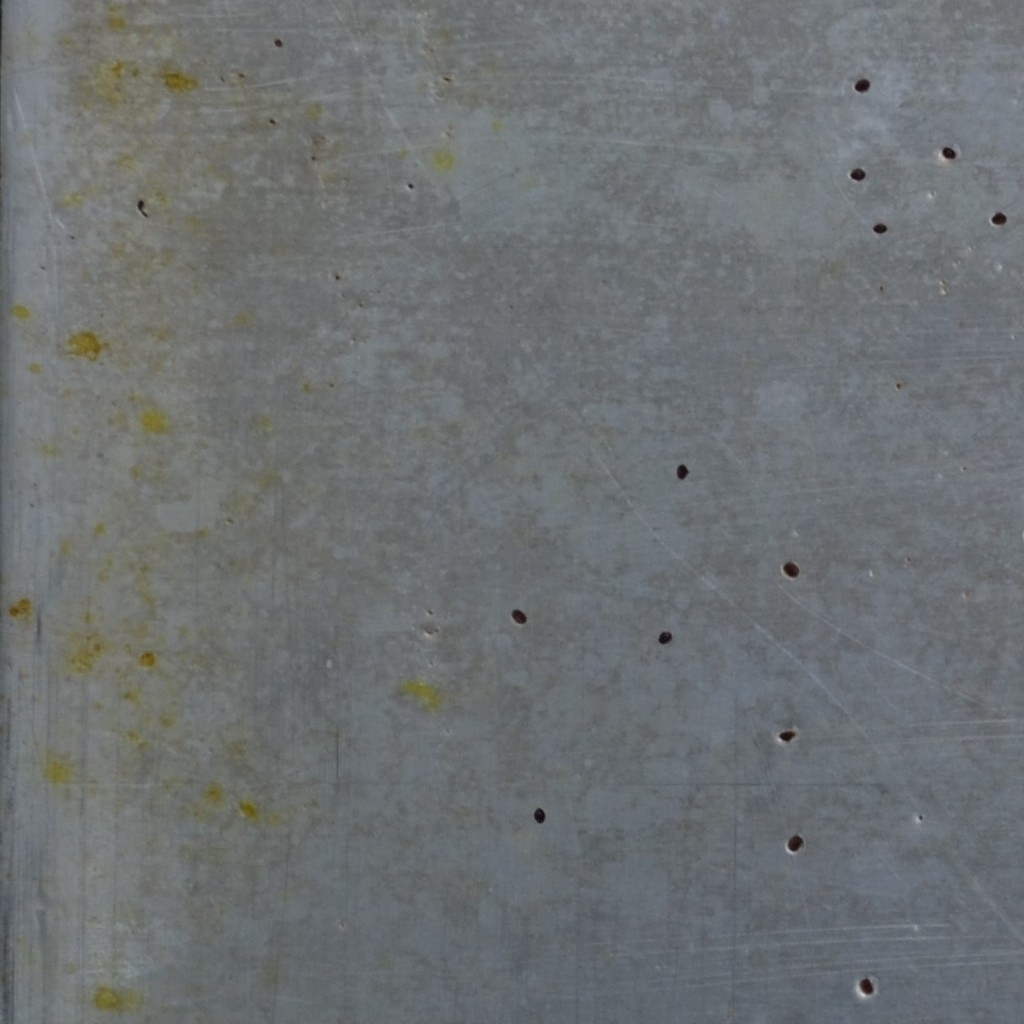varroa: (855, 972, 879, 998), (784, 832, 806, 856), (509, 605, 530, 627), (779, 559, 802, 579), (987, 207, 1010, 226), (850, 75, 871, 95), (938, 142, 959, 161), (847, 165, 868, 184), (778, 727, 799, 745), (673, 461, 691, 481), (657, 626, 674, 647), (870, 219, 890, 236), (532, 804, 547, 826)
